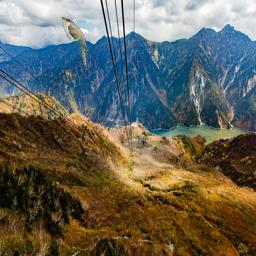Cuckoo: (59, 15, 89, 71)
